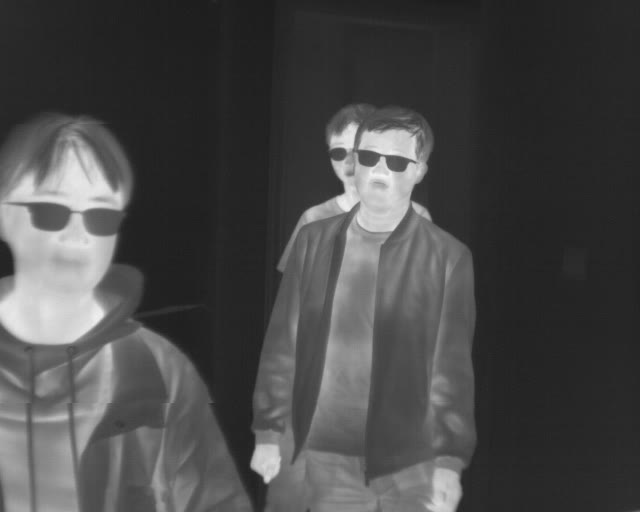face: (3, 109, 133, 295), (354, 104, 434, 216)
